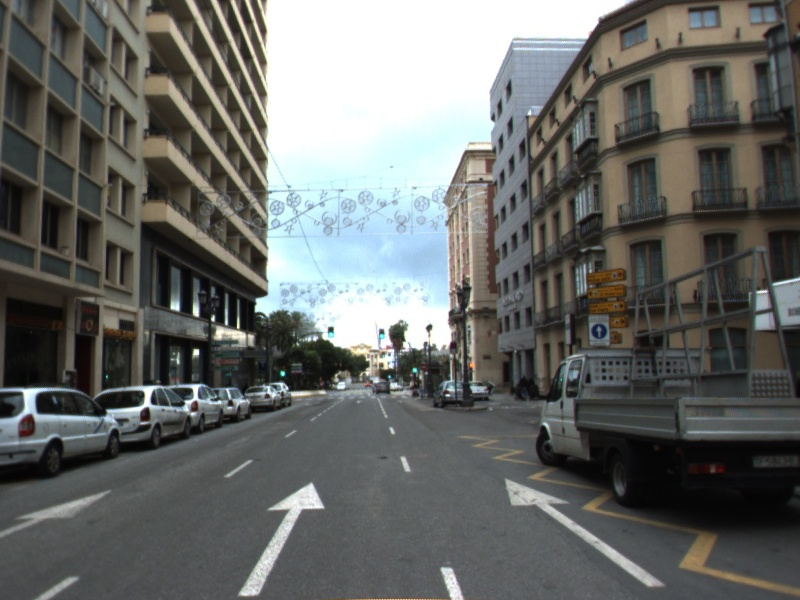STRAIGHT: (500, 473, 671, 590), (234, 477, 329, 598), (1, 484, 118, 539)
